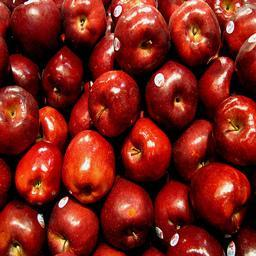apple: (171, 167, 251, 247), (111, 3, 170, 76), (98, 175, 154, 251), (59, 130, 115, 204), (144, 60, 198, 133), (86, 70, 140, 138), (166, 1, 221, 67), (119, 117, 172, 183), (44, 194, 100, 254), (211, 95, 256, 167), (14, 141, 62, 207), (5, 1, 62, 55), (41, 46, 85, 111), (1, 86, 39, 159), (171, 118, 214, 182), (152, 179, 193, 245), (1, 198, 45, 254), (60, 1, 106, 52), (197, 55, 234, 114), (164, 225, 226, 254)
